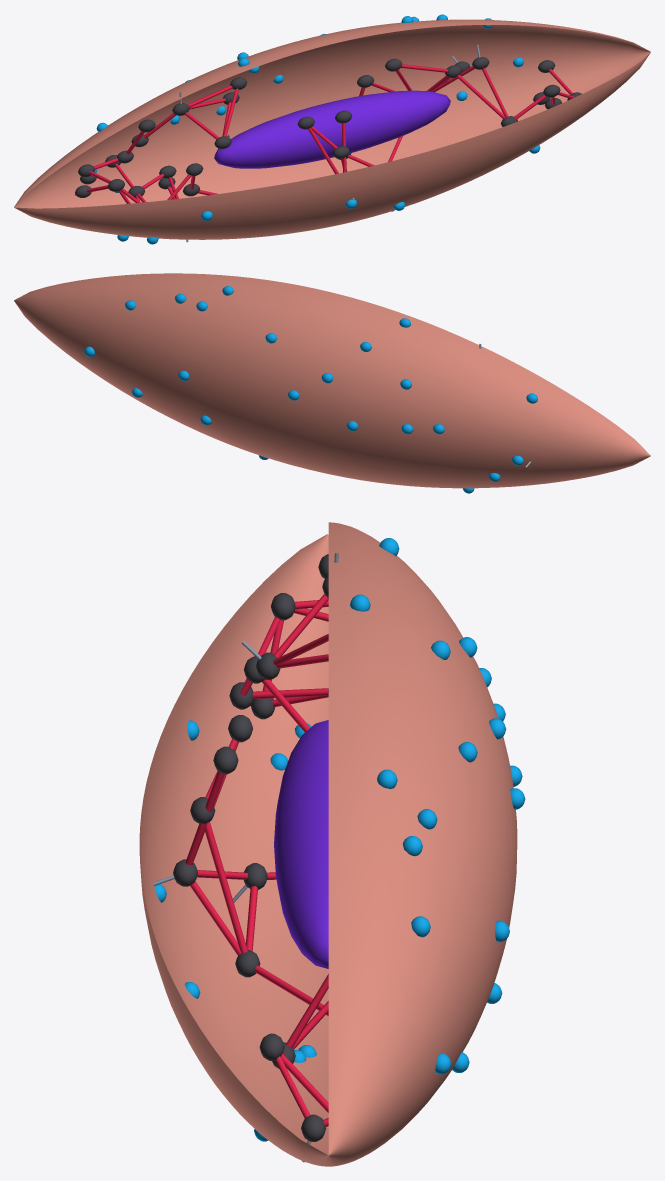
File: smoothcell.glb
3 renders of one model, top to bottom at view 1: azimuth 30°, elevation 25°; view 2: azimuth 150°, elevation 25°; view 3: azimuth 270°, elevation 25°, orthographic. The views are drawn at different scales.
Visible parts, largest first — view 1: Plasma membrane, Nucleus, Dense bodies, Contractile filaments, Caveolae; view 2: Plasma membrane, Caveolae; view 3: Plasma membrane, Nucleus, Contractile filaments, Dense bodies, Caveolae.
Boxes of the visible parts, left/top/right/bottom form: Plasma membrane: left=14, top=19, right=650, bottom=239; Nucleus: left=214, top=90, right=450, bottom=168; Dense bodies: left=75, top=57, right=581, bottom=197; Contractile filaments: left=87, top=64, right=574, bottom=203; Caveolae: left=94, top=14, right=540, bottom=244; Plasma membrane: left=14, top=273, right=650, bottom=488; Caveolae: left=84, top=286, right=537, bottom=493; Plasma membrane: left=139, top=522, right=517, bottom=1166; Nucleus: left=274, top=720, right=328, bottom=968; Contractile filaments: left=185, top=593, right=328, bottom=1126; Dense bodies: left=173, top=554, right=328, bottom=1141; Caveolae: left=154, top=538, right=525, bottom=1141.
Size of the model in its own units: 7 by 1.84 by 1.84.
